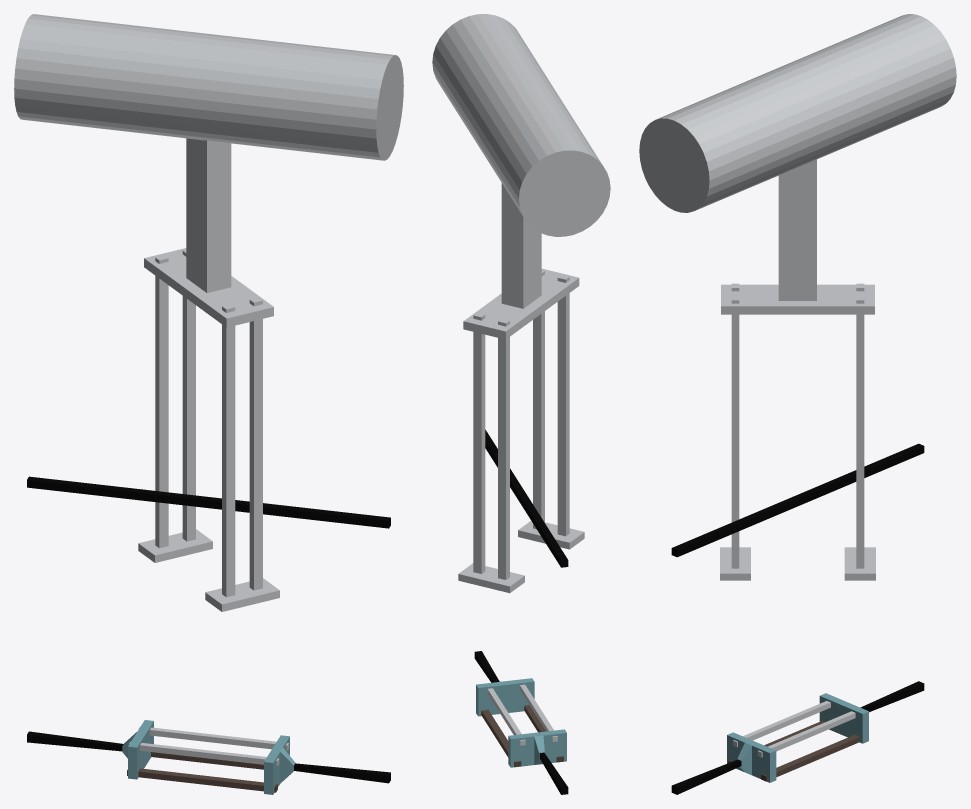
The model's file is 45d_moretop_expand-rigid-r.obj.
3 views of the same model, side by side, from view 1: azimuth 30°, elevation 25°; view 2: azimuth 150°, elevation 25°; view 3: azimuth 270°, elevation 25° (orthographic). The views are drawn at different scales.
Visible parts, largest first — view 1: moretop_1.001, moretop_1.007, moretop_1.003, moretop_1.005; view 2: moretop_1.001, moretop_1.007, moretop_1.003, moretop_1.004; view 3: moretop_1.001, moretop_1.007, moretop_1.003, moretop_1.004.
Boxes of the visible parts, <box> form: moretop_1.001: <box>14,14,403,794</box>; moretop_1.007: <box>138,138,279,611</box>; moretop_1.003: <box>129,726,288,766</box>; moretop_1.005: <box>127,768,277,792</box>; moretop_1.001: <box>432,14,610,794</box>; moretop_1.007: <box>458,183,584,593</box>; moretop_1.003: <box>487,684,557,745</box>; moretop_1.004: <box>481,709,521,767</box>; moretop_1.001: <box>639,14,956,794</box>; moretop_1.007: <box>720,159,875,580</box>; moretop_1.003: <box>733,701,855,757</box>; moretop_1.004: <box>761,734,860,781</box>.
Bounding box in the file's own units: 1.27 × 3.03 × 1.27.
4 materials, 4 textured.
